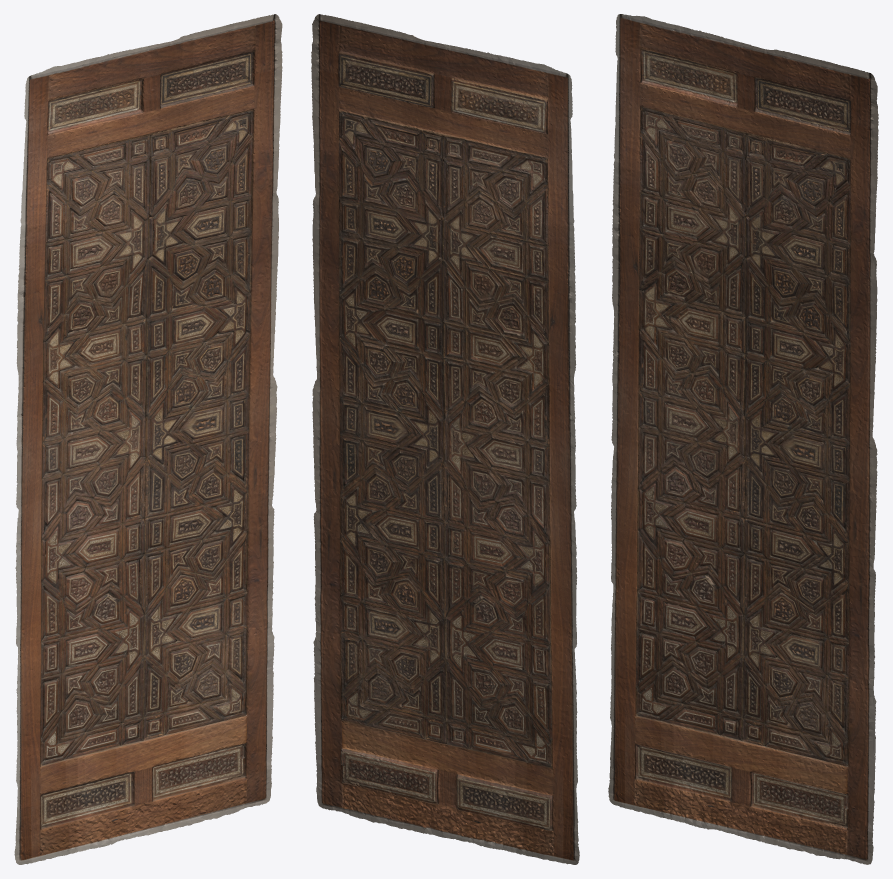
The model's file is 190401_mia348_3216_DoorPanel_MeshLowRes.obj.
The picture shows the model from 3 angles, left to right: view 1: azimuth 30°, elevation 25°; view 2: azimuth 150°, elevation 25°; view 3: azimuth 330°, elevation 25°; orthographic projection.
Size of the model in its own units: 14.42 by 40.86 by 0.6333.
1 material, 1 textured.
